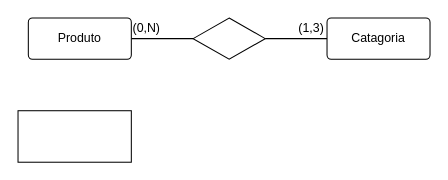
Image size: 448x180. Some labels were removed from this diagram. Here are the shapes that lost their labels. From the top down, the centre of each, then its label:
the point at 228,38: Tem
the point at 74,136: Usuario
